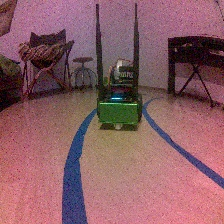rob: (95, 64, 143, 130)
